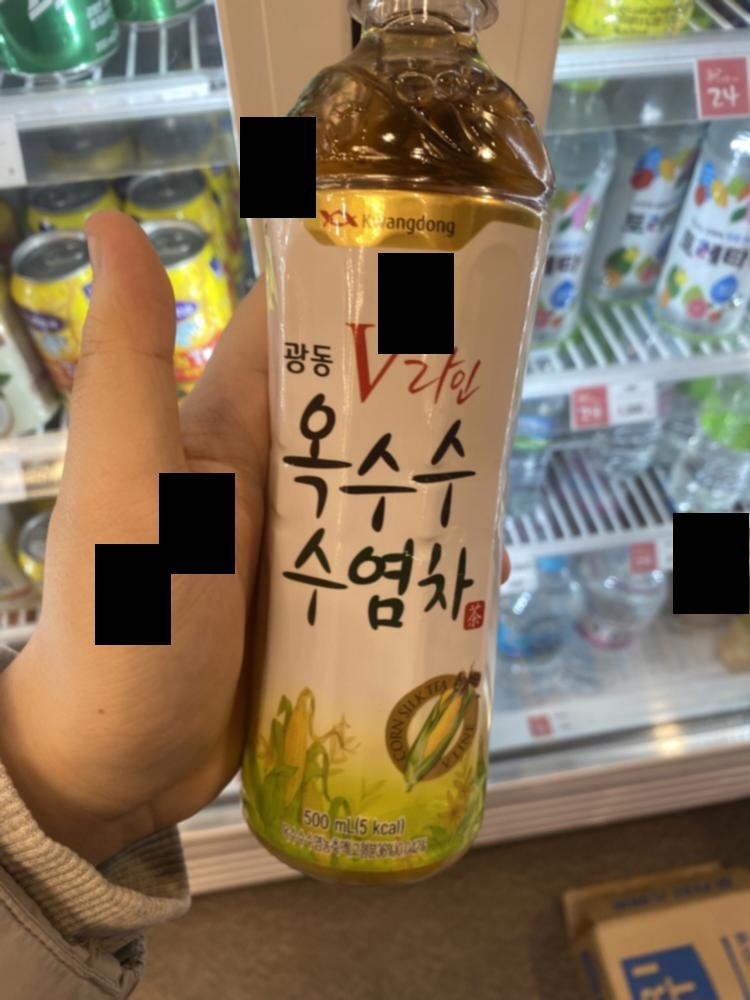oksususuyeomcha: (256, 5, 522, 889)
